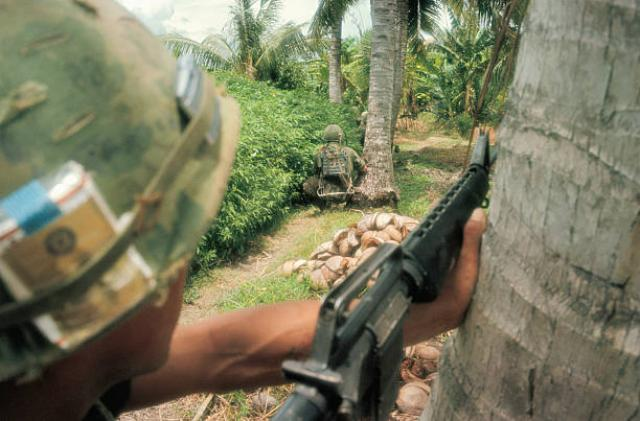other: (0, 0, 242, 415), (302, 124, 364, 200)
